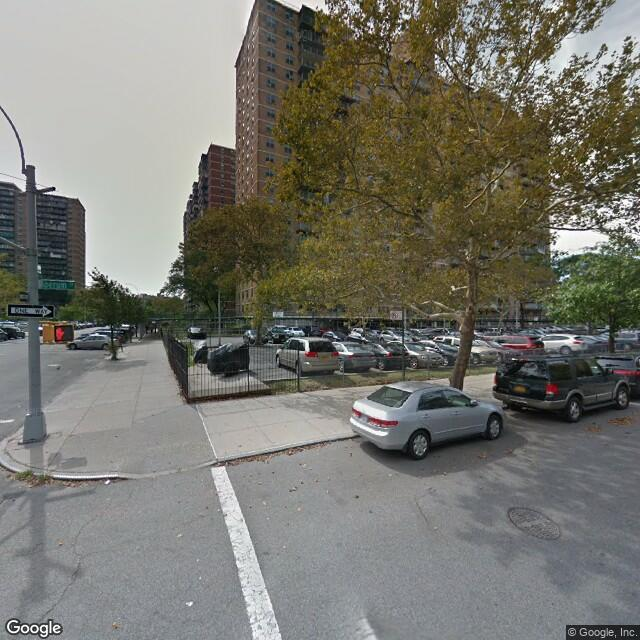litter: (101, 478, 118, 488)
